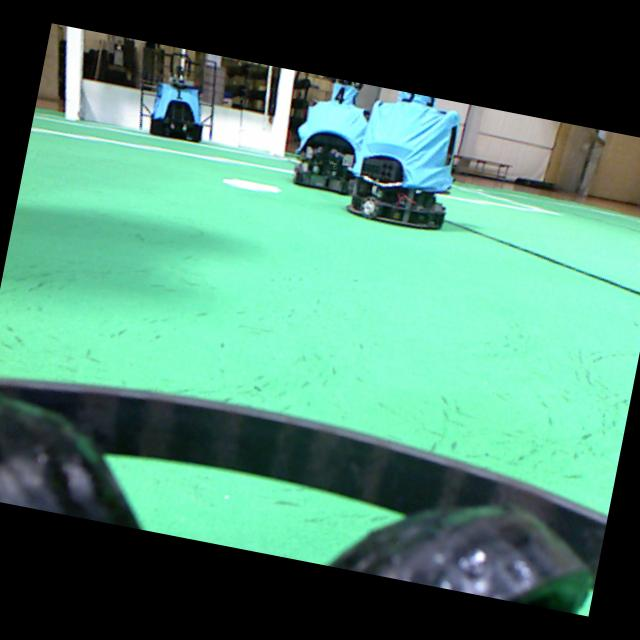goal: (269, 68, 294, 157), (65, 26, 83, 121)
